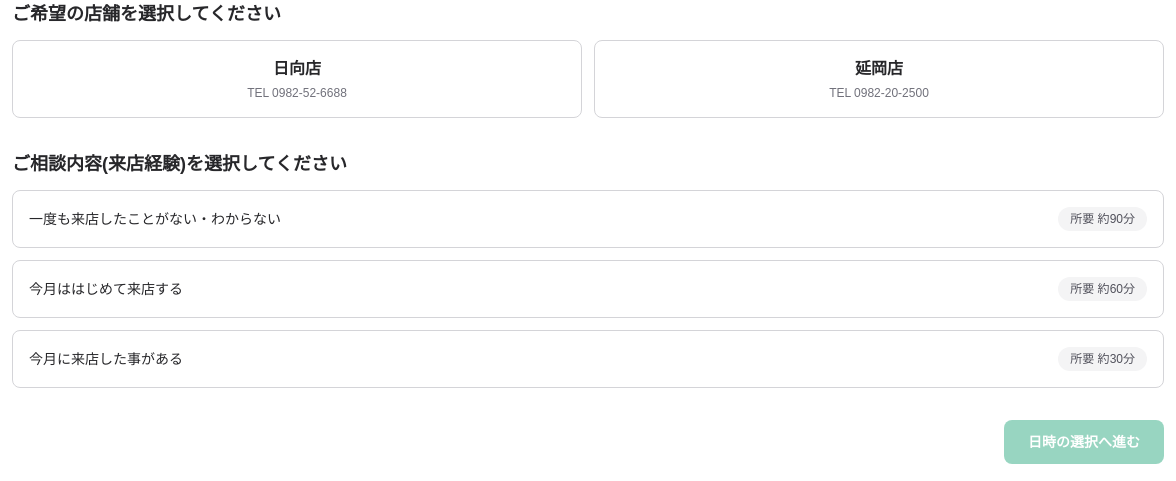
Test: StepConsultation › 拠点と来店経験の両方を選ぶと「次へ」ボタンが有効化される
Click the button "延岡店 TEL 0982-20-2500".
click(879, 79)  # box top-left (594, 40), bottom-right (1164, 118)
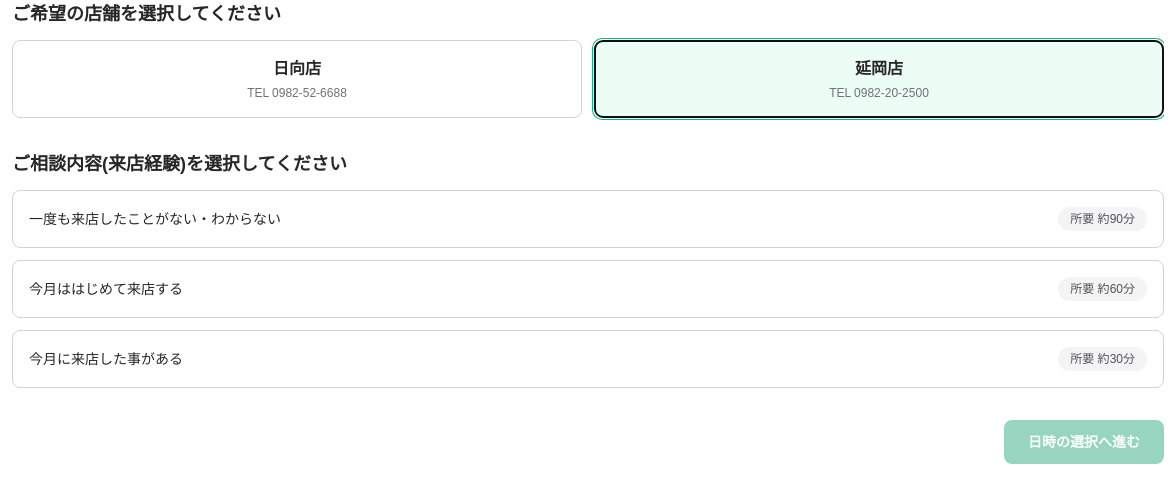
Click the button "今月ははじめて来店する 所要 約60分".
click(106, 289)  # box top-left (12, 260), bottom-right (1164, 318)
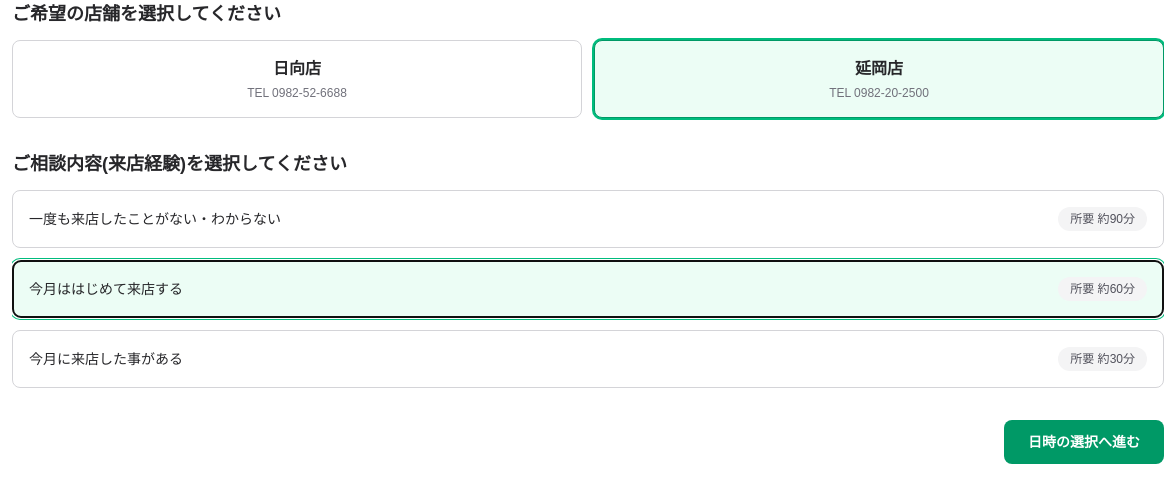
Check: the button "日時の選択へ進む" is enabled, box top-left (1004, 420), bottom-right (1164, 464)
